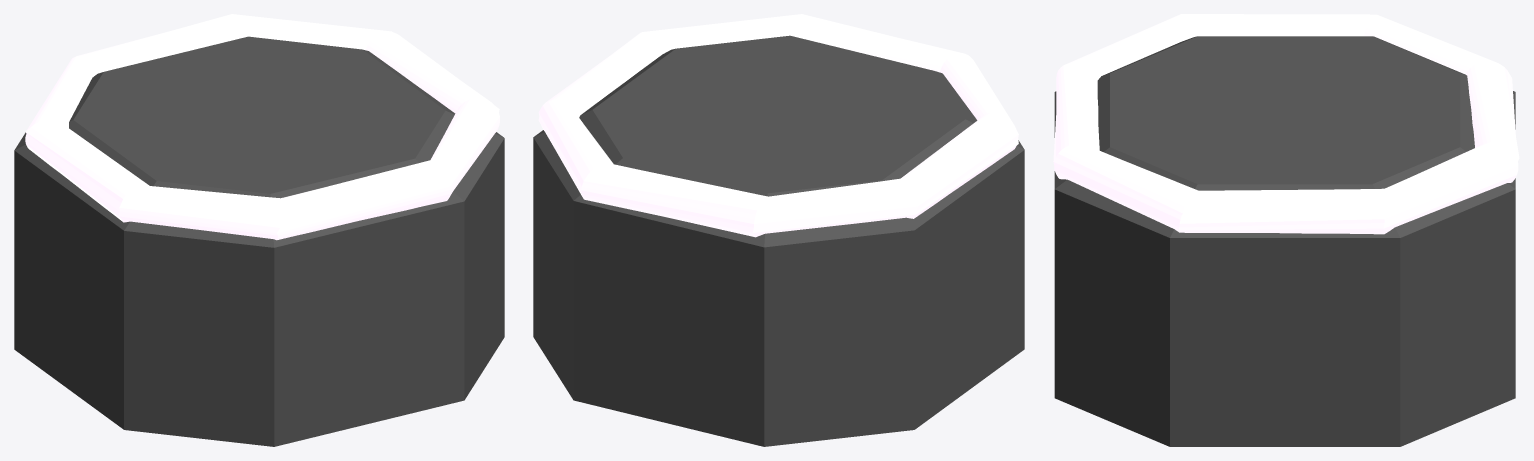
The model's file is firstweb1.glb.
3 views of the same model, side by side, from view 1: azimuth 30°, elevation 25°; view 2: azimuth 150°, elevation 25°; view 3: azimuth 270°, elevation 25° (orthographic). The views are drawn at different scales.
Visible parts, largest first — view 1: Cube.001, Cylinder; view 2: Cube.001, Cylinder; view 3: Cube.001, Cylinder.
Boxes of the visible parts, x1=… form: Cube.001: x1=14, y1=36, x2=504, y2=446; Cylinder: x1=25, y1=14, x2=499, y2=240; Cube.001: x1=533, y1=35, x2=1024, y2=446; Cylinder: x1=538, y1=14, x2=1018, y2=237; Cube.001: x1=1054, y1=36, x2=1515, y2=446; Cylinder: x1=1053, y1=14, x2=1519, y2=234.
Bounding box in the file's own units: 2.01 × 1.18 × 2.02.
